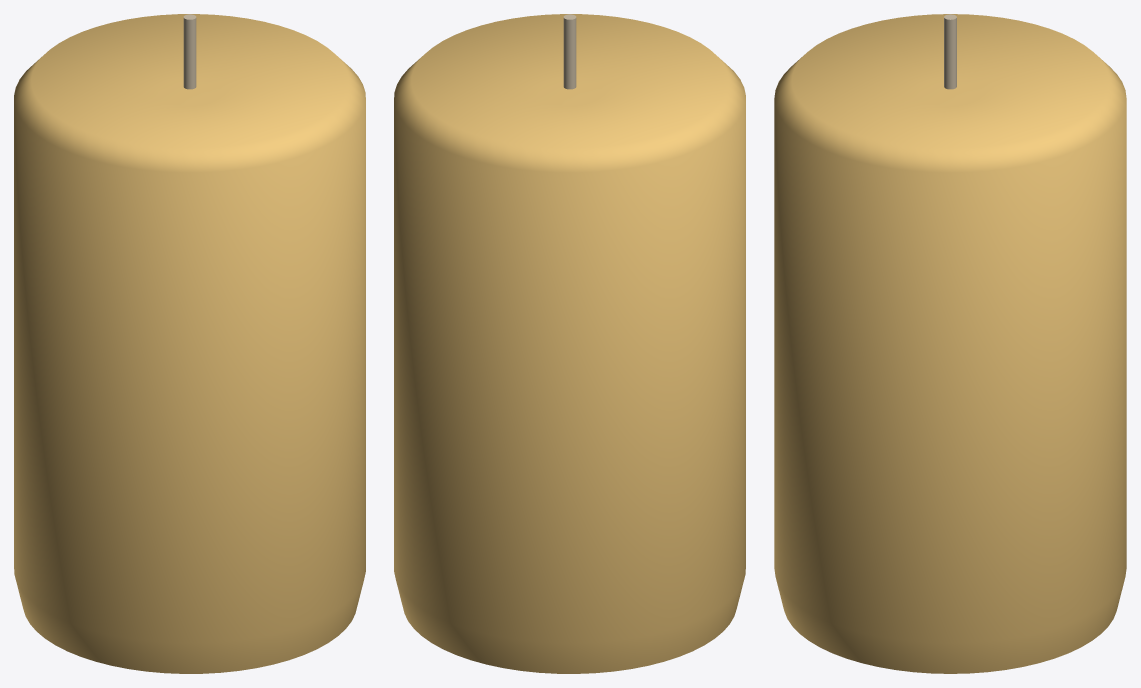
File: candlemaking-and-soap-workshop-finished-pillar-candle-d0d4c6c3__30666.glb
The picture shows the model from 3 angles, left to right: view 1: azimuth 30°, elevation 25°; view 2: azimuth 150°, elevation 25°; view 3: azimuth 270°, elevation 25°; orthographic projection.
Parts seen in each view (by area): view 1: finished-pillar-candle; view 2: finished-pillar-candle; view 3: finished-pillar-candle.
Part boxes in pixels (left/top/right/bottom): finished-pillar-candle: left=14, top=14, right=365, bottom=673; finished-pillar-candle: left=394, top=14, right=745, bottom=673; finished-pillar-candle: left=774, top=14, right=1126, bottom=673.
Size of the model in its own units: 0.11 by 0.202 by 0.11.
